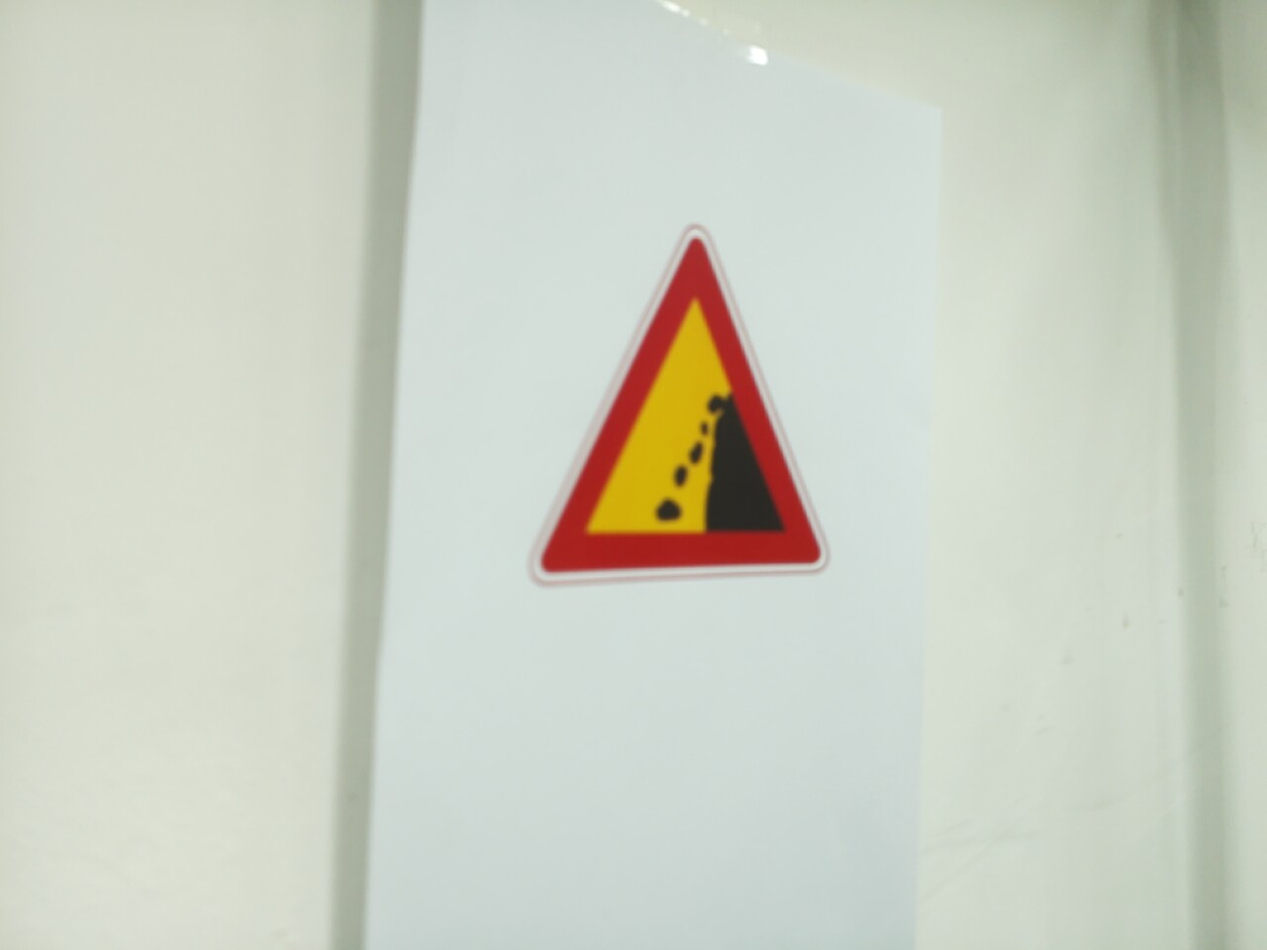falling_rocks: (532, 229, 829, 583)
